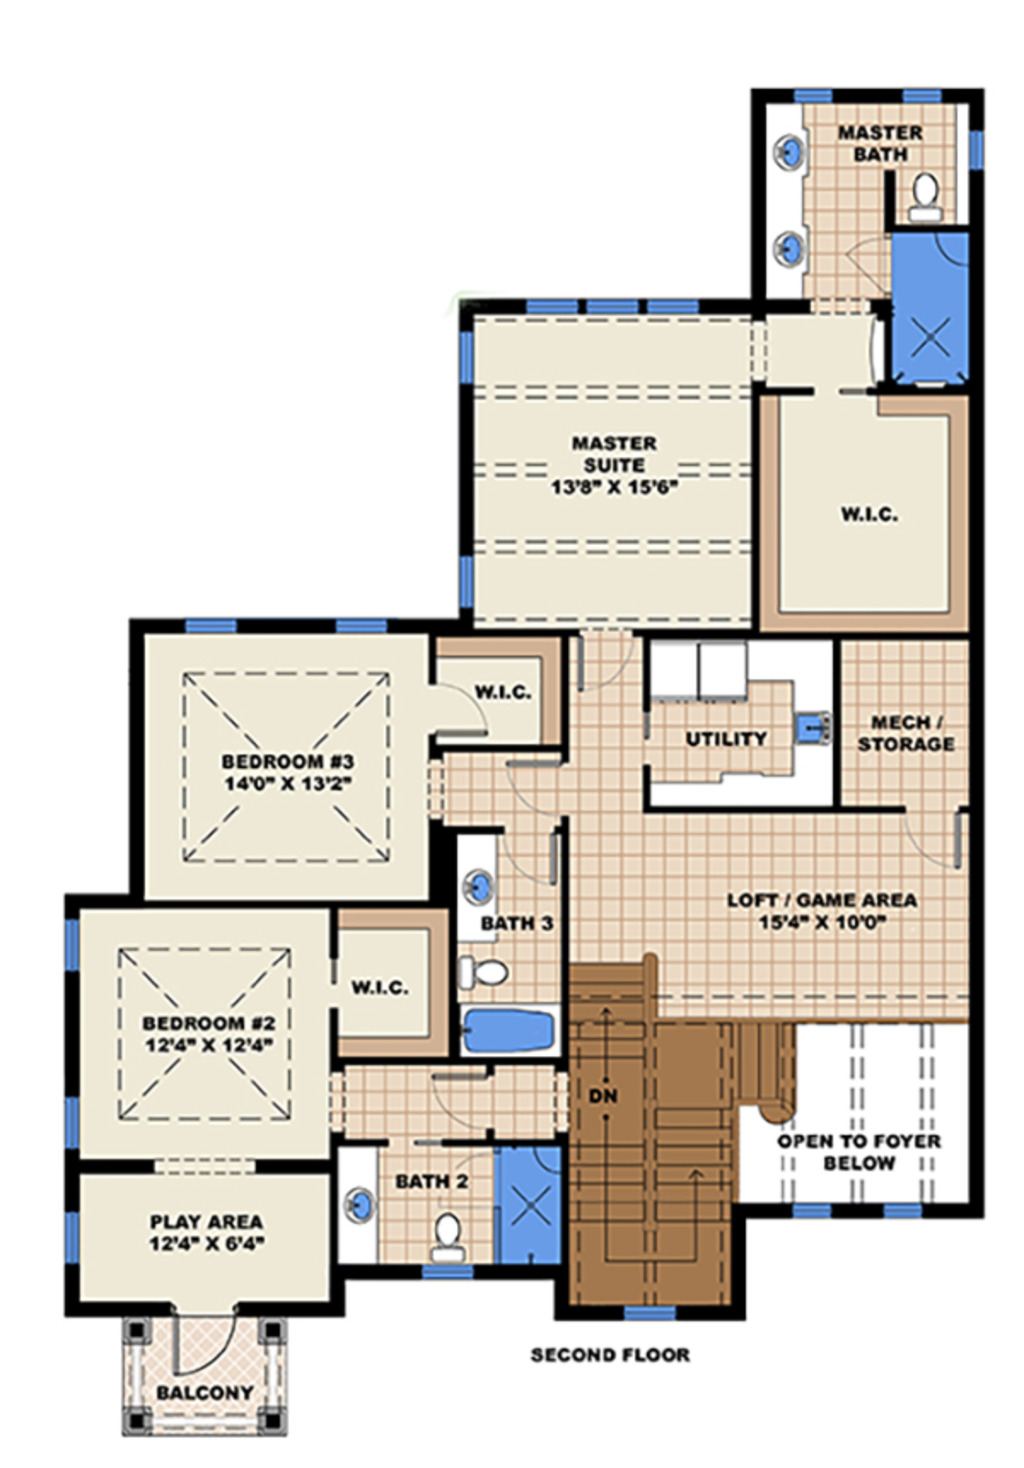door: (497, 821, 566, 898), (898, 804, 962, 879), (167, 1310, 234, 1377), (426, 677, 497, 740), (576, 627, 641, 693), (497, 754, 567, 817)
large_sink: (417, 1209, 470, 1271), (456, 949, 509, 999), (905, 171, 951, 226)
small_sink: (334, 1155, 378, 1254), (767, 124, 817, 182), (772, 221, 805, 279)
stairs: (556, 952, 751, 1319)
tub: (458, 998, 564, 1068)
windows: (516, 284, 708, 327), (323, 609, 398, 641), (173, 614, 253, 641), (58, 907, 86, 982), (451, 540, 479, 612), (456, 326, 483, 398), (61, 1090, 84, 1156)
